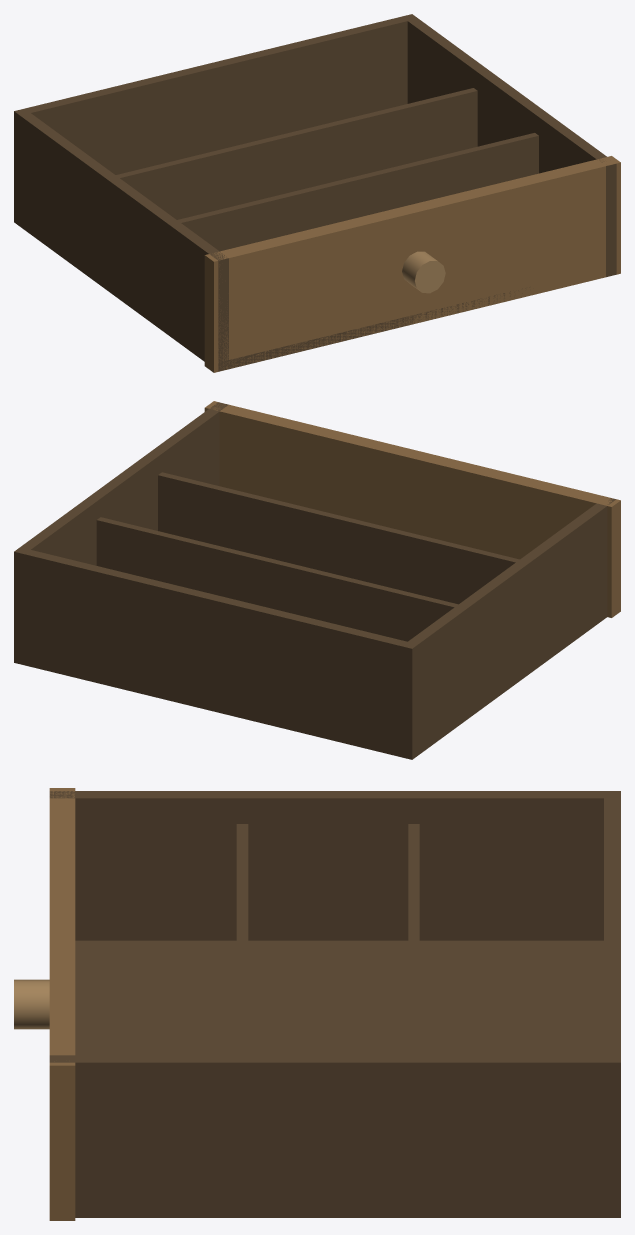
The model's file is LOC_NganKeo.glb.
3 renders of one model, top to bottom at view 1: azimuth 30°, elevation 25°; view 2: azimuth 150°, elevation 25°; view 3: azimuth 270°, elevation 25°, orthographic. The views are drawn at different scales.
Visible parts, largest first — view 1: NK_MatTruoc, NK_Sau, NK_Hong_Trai, NK_Vach_1, NK_Vach_2, NK_Hong_Phai, NK_Day, NK_Num; view 2: NK_Sau, NK_MatTruoc, NK_Hong_Trai, NK_Vach_2, NK_Vach_1, NK_Hong_Phai, NK_Day; view 3: NK_Hong_Phai, NK_Hong_Trai, NK_Day, NK_MatTruoc, NK_Sau, NK_Vach_2, NK_Vach_1, NK_Num.
Boxes of the visible parts, x1,y1,x2,y2 form: NK_MatTruoc: (204, 156, 620, 372); NK_Sau: (14, 14, 415, 174); NK_Hong_Trai: (14, 108, 228, 370); NK_Vach_1: (116, 88, 477, 219); NK_Vach_2: (177, 133, 538, 251); NK_Hong_Phai: (402, 14, 616, 277); NK_Day: (17, 224, 529, 371); NK_Num: (402, 251, 445, 293); NK_Sau: (14, 550, 417, 758); NK_MatTruoc: (204, 401, 620, 617); NK_Hong_Trai: (401, 498, 616, 759); NK_Vach_2: (158, 472, 519, 604); NK_Vach_1: (96, 517, 458, 641); NK_Hong_Phai: (14, 402, 228, 665); NK_Day: (14, 653, 412, 759); NK_Hong_Phai: (49, 1055, 620, 1217); NK_Hong_Trai: (49, 791, 620, 940); NK_Day: (75, 940, 620, 1217); NK_MatTruoc: (49, 788, 75, 1220); NK_Sau: (604, 791, 620, 1216); NK_Vach_2: (236, 824, 248, 1055); NK_Vach_1: (408, 824, 419, 1055); NK_Num: (14, 979, 49, 1029).
Size of the model in its own units: 0.46 by 0.12 by 0.425.
